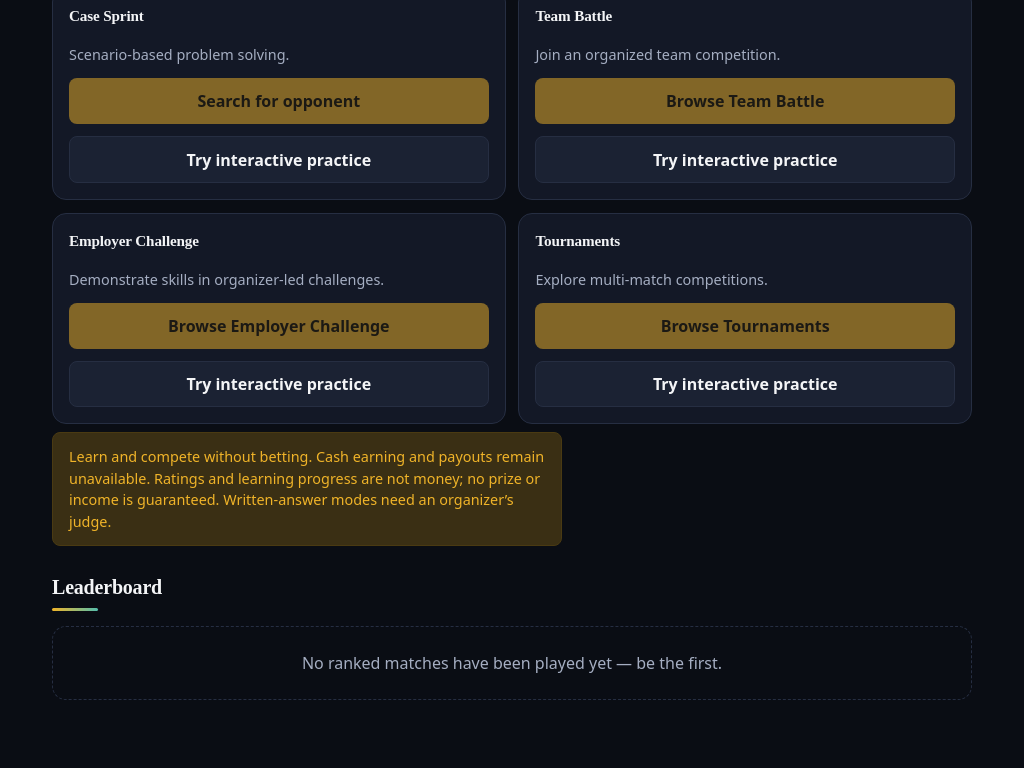
Test: keeps Grade 1–12 learners in school-safe Arena practice with no live matchmaking
(page scrolled)
Expected: the button "Search for opponent" is disabled, top-left (69, 78), bottom-right (489, 124)
Expected: the button "Browse Team Battle" is disabled, top-left (535, 78), bottom-right (955, 124)
Click the button "Try interactive practice" below "Explore multi-match competitions." at (745, 384), box top-left (535, 361), bottom-right (955, 407)
(page scrolled)
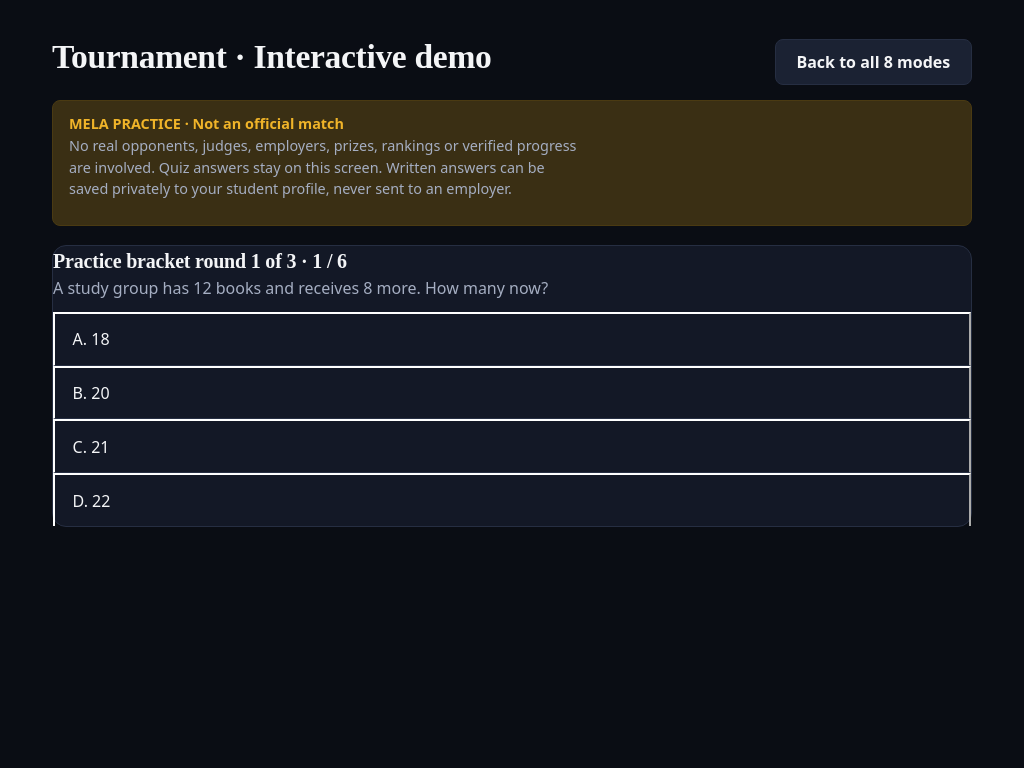
Expected: the heading "Tournament · Interactive demo" is shown, top-left (52, 32), bottom-right (492, 82)
